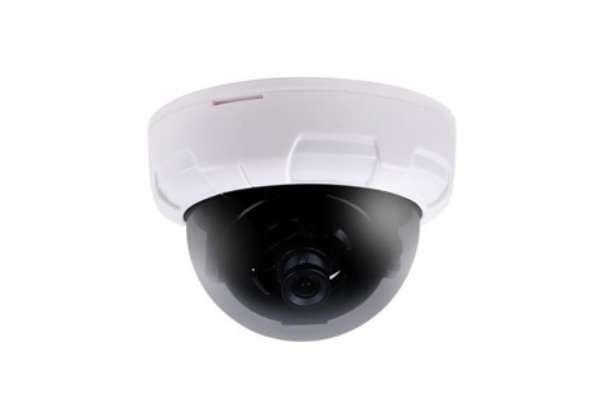maru: (148, 76, 456, 341)
